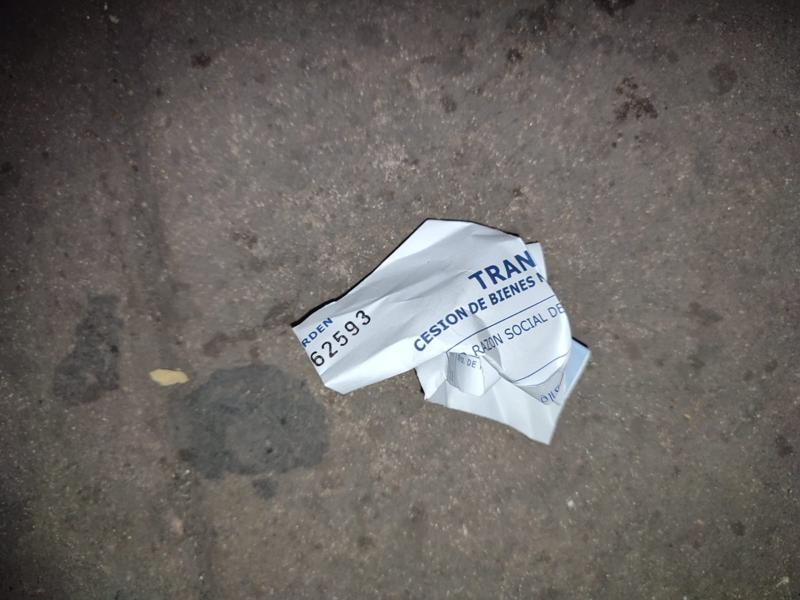papel: (292, 219, 592, 445)
